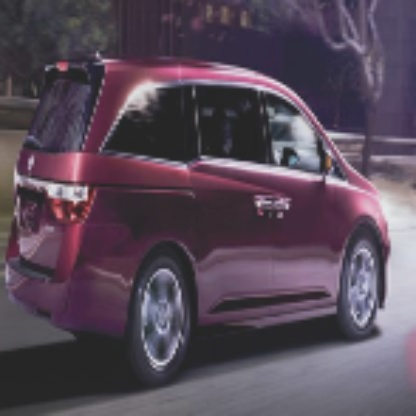Vehicle: (7, 46, 400, 397)
